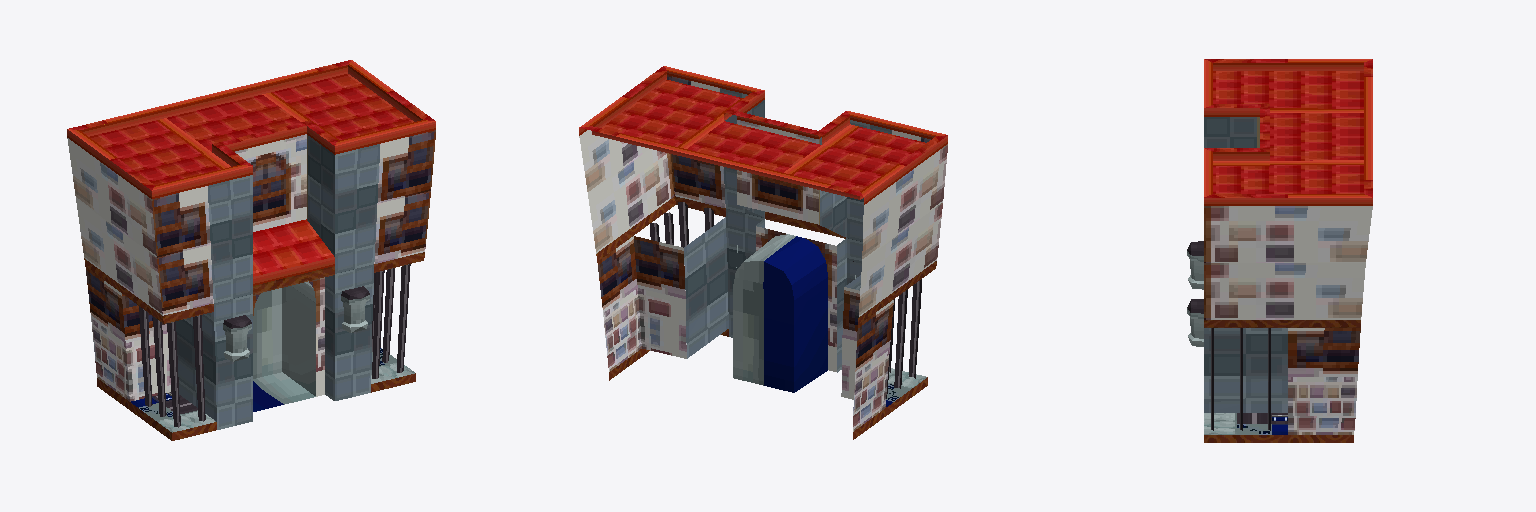
3 views of the same model, side by side, from view 1: azimuth 30°, elevation 25°; view 2: azimuth 150°, elevation 25°; view 3: azimuth 270°, elevation 25° (orthographic).
Parts seen in each view (by area): view 1: vsn_mesh_0__mesh_0_.005, vsn_mesh_1__mesh_1_.005, vsn_mesh_2__mesh_2_.005; view 2: vsn_mesh_0__mesh_0_.005, vsn_mesh_1__mesh_1_.005; view 3: vsn_mesh_0__mesh_0_.005, vsn_mesh_1__mesh_1_.005, vsn_mesh_2__mesh_2_.005.
Boxes of the visible parts, x1,y1,x2,y2 form: vsn_mesh_0__mesh_0_.005: [67, 130, 435, 440]; vsn_mesh_1__mesh_1_.005: [67, 60, 435, 285]; vsn_mesh_2__mesh_2_.005: [223, 286, 369, 361]; vsn_mesh_0__mesh_0_.005: [579, 75, 947, 439]; vsn_mesh_1__mesh_1_.005: [579, 66, 947, 204]; vsn_mesh_0__mesh_0_.005: [1204, 117, 1372, 442]; vsn_mesh_1__mesh_1_.005: [1204, 59, 1372, 205]; vsn_mesh_2__mesh_2_.005: [1187, 241, 1203, 346].
Bounding box in the file's own units: 0.4547 × 0.39 × 0.2573.
3 materials, 2 textured.